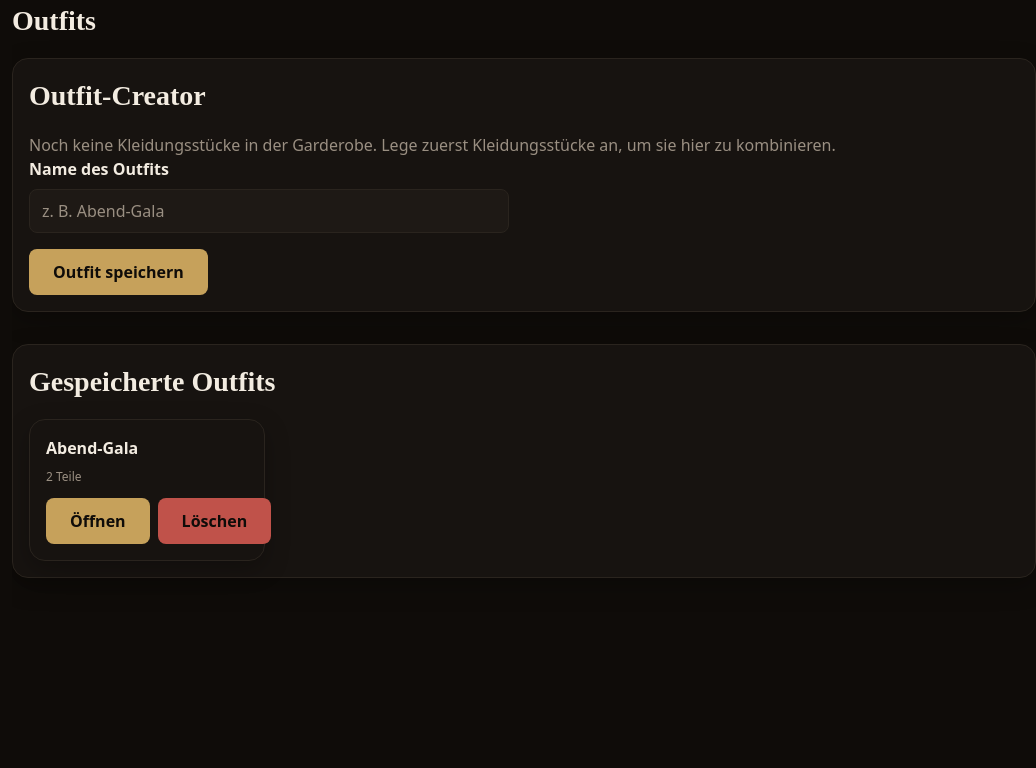
Test: Outfits › löscht ein Outfit aus der Übersicht
Click the button "Löschen" at (214, 521), box [158, 498, 271, 544]
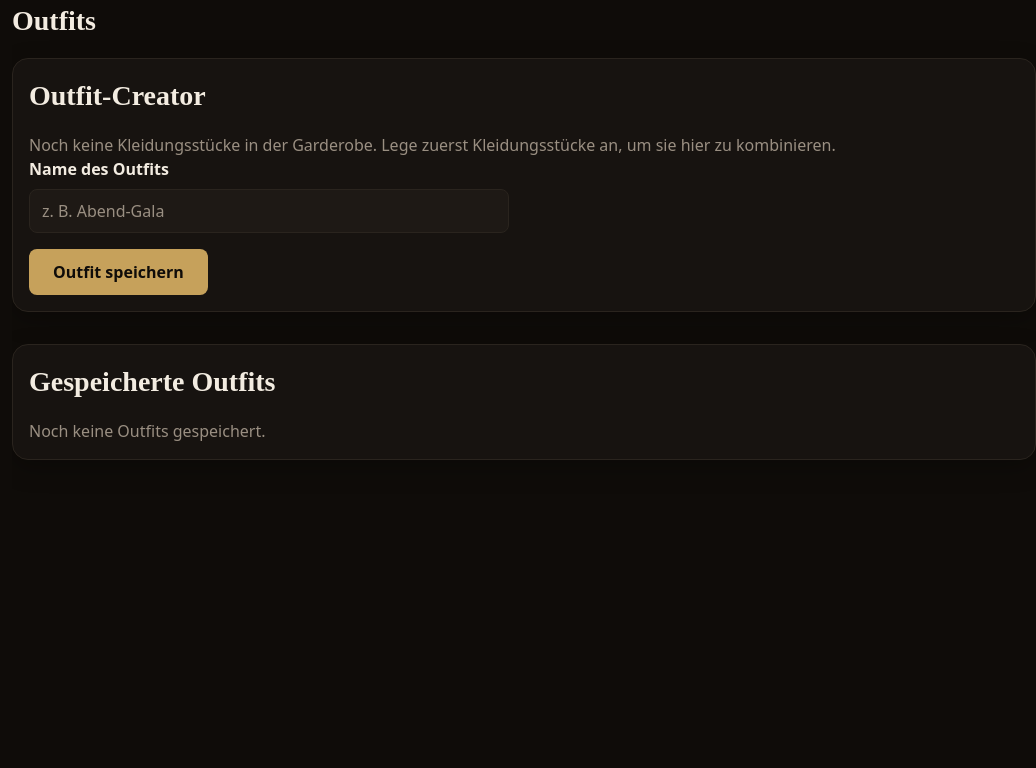
Now the text "Noch keine Outfits gespeichert." is shown, box [29, 420, 266, 442]
